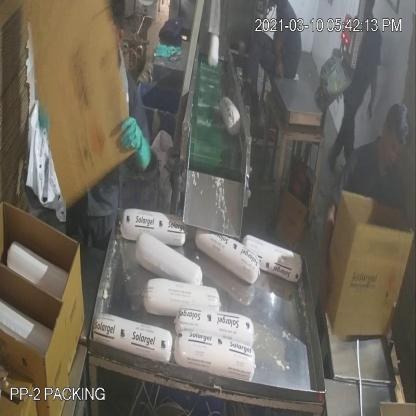glove: (119, 111, 150, 186)
no_glove: (312, 183, 343, 320), (364, 52, 379, 136)
